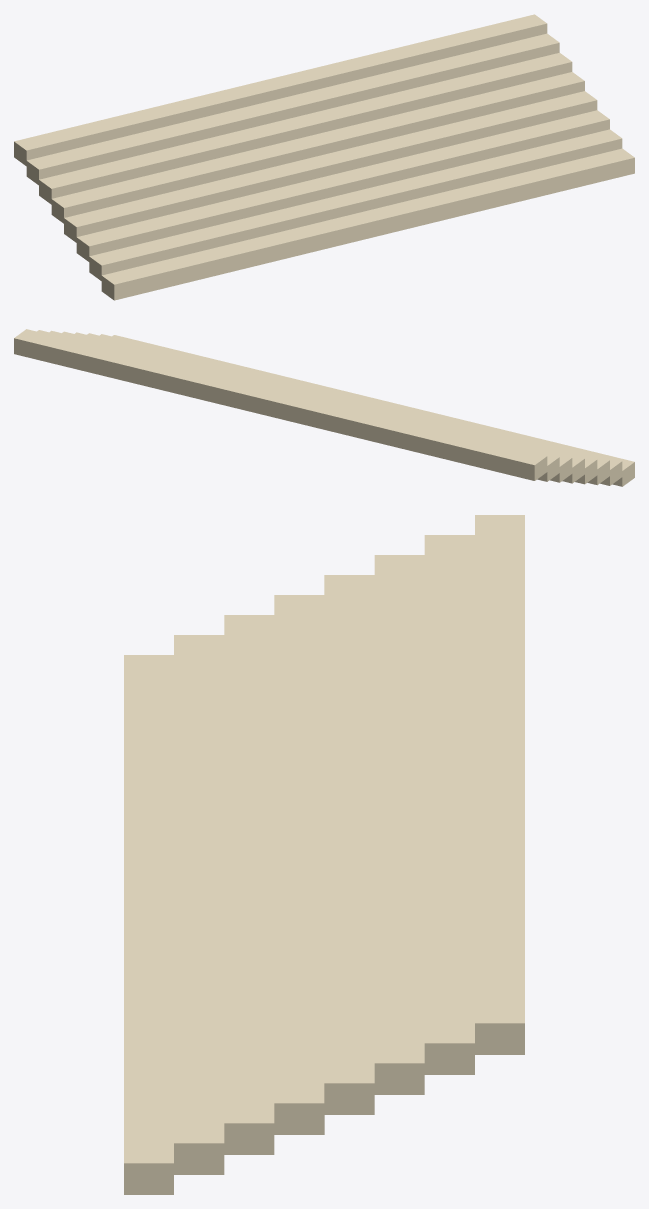
The model's file is promenade-stairs.glb.
3 views of the same model, one above another, from view 1: azimuth 30°, elevation 25°; view 2: azimuth 150°, elevation 25°; view 3: azimuth 270°, elevation 25° (orthographic). The views are drawn at different scales.
Visible parts, largest first — view 1: promenade-stairs; view 2: promenade-stairs; view 3: promenade-stairs.
Boxes of the visible parts, x1,y1,x2,y2 form: promenade-stairs: (14, 14, 634, 300); promenade-stairs: (14, 329, 634, 486); promenade-stairs: (124, 515, 524, 1194).
Bounding box in the file's own units: 12 × 1.89 × 4.
